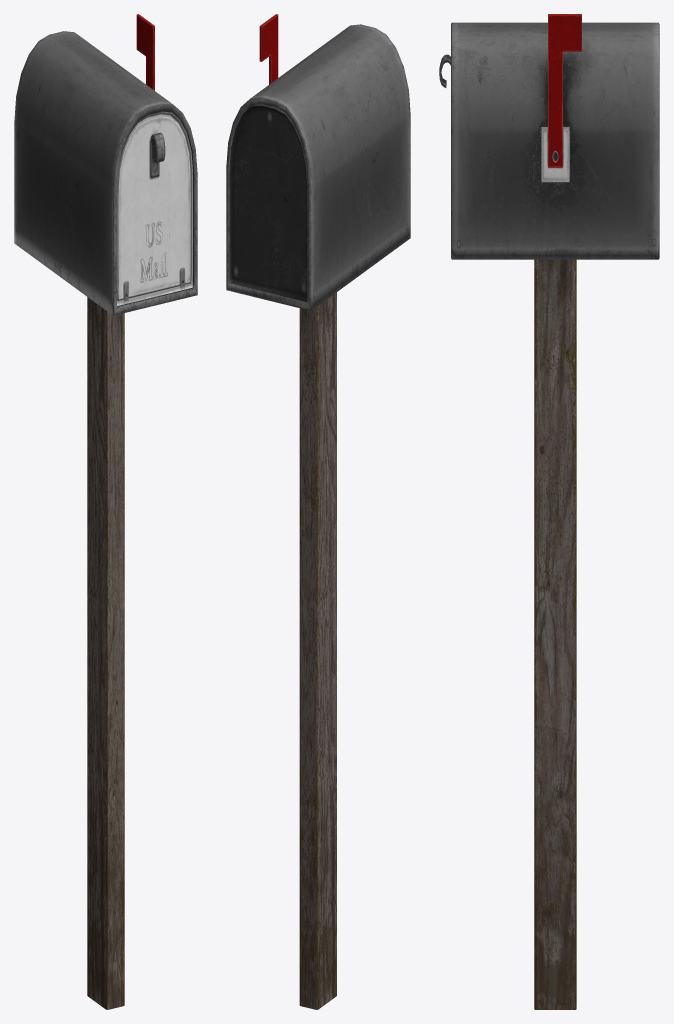
Rendered from mailbox.glb.
The picture shows the model from 3 angles, left to right: view 1: azimuth 30°, elevation 25°; view 2: azimuth 150°, elevation 25°; view 3: azimuth 270°, elevation 25°; orthographic projection. The views are drawn at different scales.
Parts seen in each view (by area): view 1: Cube.001; view 2: Cube.001; view 3: Cube.001.
Boxes of the visible parts, bbox=[...] form: Cube.001: bbox=[14, 14, 197, 1009]; Cube.001: bbox=[226, 14, 410, 1009]; Cube.001: bbox=[439, 14, 659, 1009].
Bounding box in the file's own units: 5.33 × 55.12 × 10.86.
Materials: 1 (1 with a texture image).
